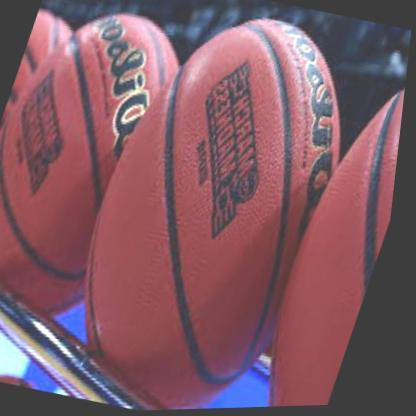basketball: (47, 0, 387, 414), (0, 0, 210, 333), (247, 37, 412, 409)
